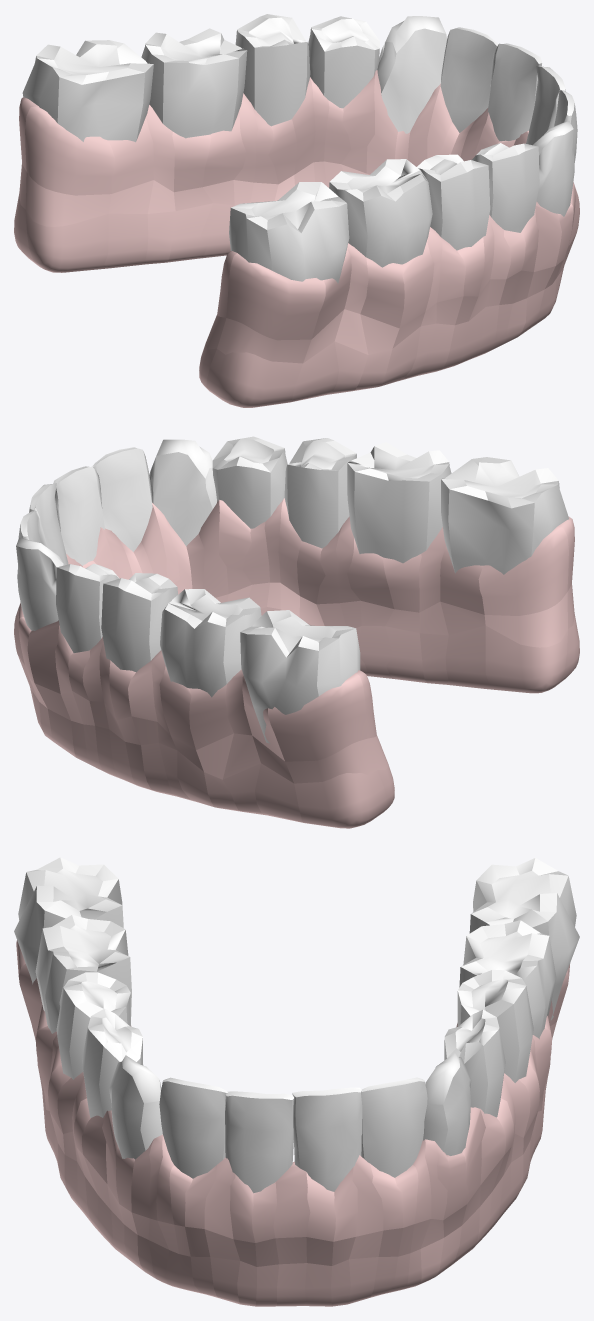
The model's file is cowMan_teeth_lower.fbx.
3 renders of one model, top to bottom at view 1: azimuth 30°, elevation 25°; view 2: azimuth 150°, elevation 25°; view 3: azimuth 270°, elevation 25°, orthographic. The views are drawn at different scales.
Visible parts, largest first — view 1: gum_lower, Box30, Box47, Box27, Box45, Box21, Box15, Box46, Box06, Box14, Box48, Box12 (+3 smaller); view 2: gum_lower, Box47, Box45, Box30, Box27, Box46, Box21, Box48, Box24, Box23, Box06, Box22 (+3 smaller); view 3: gum_lower, Box30, Box47, Box45, Box12, Box22, Box27, Box23, Box14, Box21, Box46, Box24 (+3 smaller).
Part boxes in pixels (box(x1,y1,x2,y2)): gum_lower: box(14, 70, 579, 407); Box30: box(22, 40, 153, 142); Box47: box(229, 182, 349, 283); Box27: box(141, 28, 247, 138); Box45: box(329, 159, 432, 267); Box21: box(235, 14, 310, 126); Box15: box(377, 16, 447, 133); Box46: box(417, 154, 490, 250); Box06: box(308, 16, 379, 108); Box14: box(440, 27, 498, 132); Box48: box(472, 143, 539, 232); Box12: box(487, 43, 541, 141); gum_lower: box(14, 498, 579, 828); Box47: box(441, 457, 568, 574); Box45: box(347, 442, 451, 563); Box30: box(240, 610, 360, 743); Box27: box(160, 589, 261, 697); Box46: box(284, 438, 356, 548); Box21: box(101, 573, 177, 671); Box48: box(212, 436, 287, 528); Box24: box(149, 439, 216, 546); Box23: box(92, 447, 152, 551); Box06: box(56, 563, 119, 652); Box22: box(53, 466, 104, 565); gum_lower: box(16, 940, 570, 1306); Box30: box(469, 858, 579, 1020); Box47: box(14, 857, 123, 984); Box45: box(35, 915, 131, 1033); Box12: box(292, 1087, 362, 1191); Box22: box(225, 1091, 293, 1193); Box27: box(459, 920, 556, 1039); Box23: box(159, 1077, 227, 1178); Box14: box(361, 1077, 427, 1177); Box21: box(457, 970, 533, 1082); Box46: box(56, 972, 130, 1079); Box24: box(109, 1055, 162, 1159).
Size of the model in its own units: 6.64 by 3.37 by 6.87.
